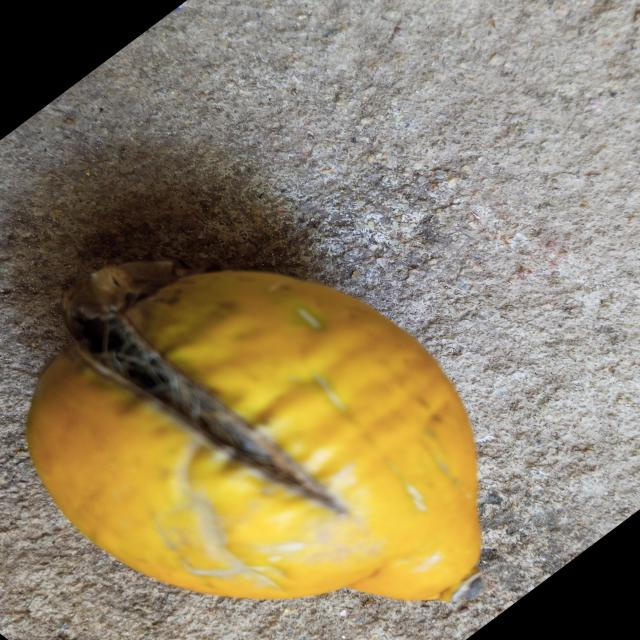damaged: (26, 263, 482, 605)
